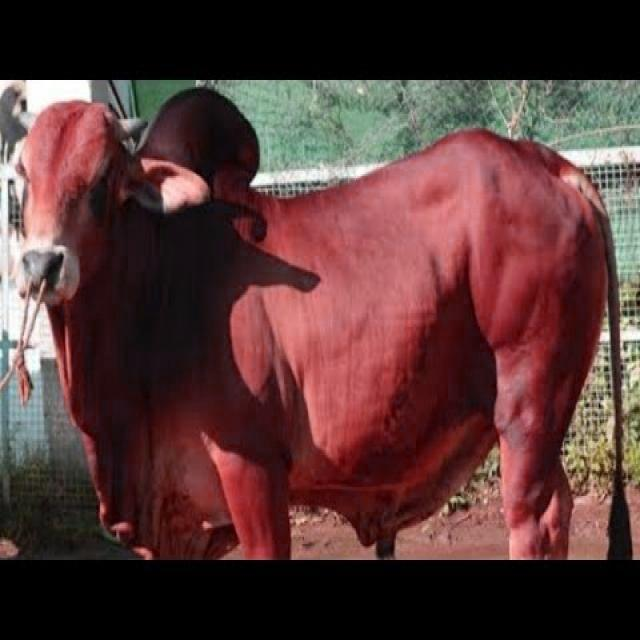cow: (19, 89, 612, 558)
